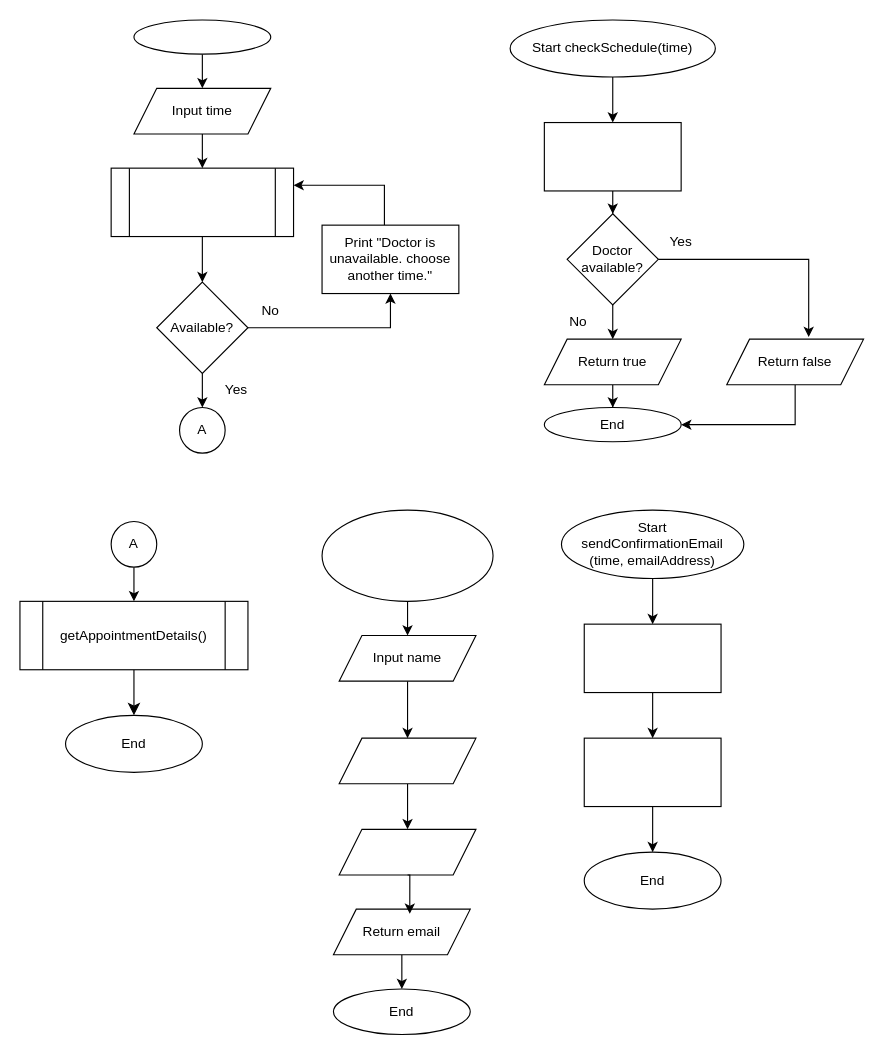
The diagram is 884 pixels wide and 1055 high, and some of its shapes have lost their labels. The shapes that lost their labels are listed below. From the top down, each one's centre as x and y in pixels, then its label:
At [202,36]: "Start".
At [612,156]: "Search system for availability at time".
At [202,202]: "checkSchedule(time)".
At [407,555]: "Start getAppointmentDetails()".
At [652,658]: "Create confirmation email for time".
At [407,760]: "Input reason for visit".
At [652,772]: "Send confirmation email to emailAddress".
At [407,851]: "Input email".
